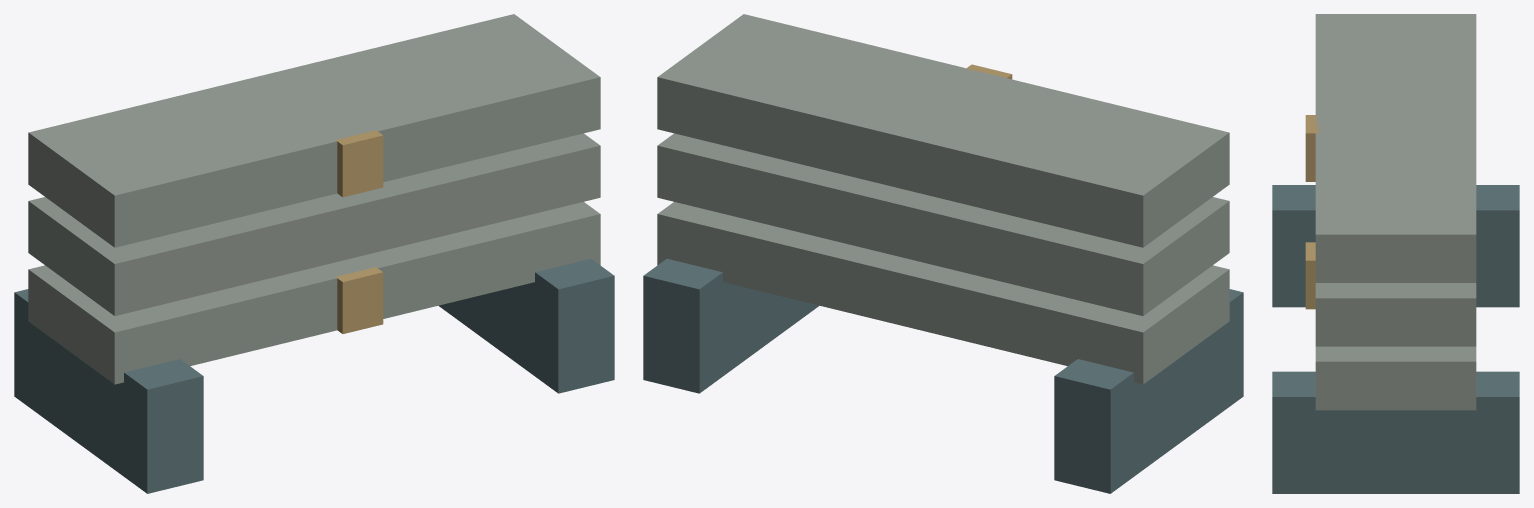
Rendered from map-exclusive-v3__iron_07.glb.
The picture shows the model from 3 angles, left to right: view 1: azimuth 30°, elevation 25°; view 2: azimuth 150°, elevation 25°; view 3: azimuth 270°, elevation 25°; orthographic projection. The views are drawn at different scales.
Visible parts, largest first — view 1: iron_07; view 2: iron_07; view 3: iron_07.
Boxes of the visible parts, <box> form: iron_07: <box>14,14,614,493</box>; iron_07: <box>643,14,1243,493</box>; iron_07: <box>1272,14,1519,493</box>.
Bounding box in the file's own units: 1.56 × 0.87 × 0.74.
